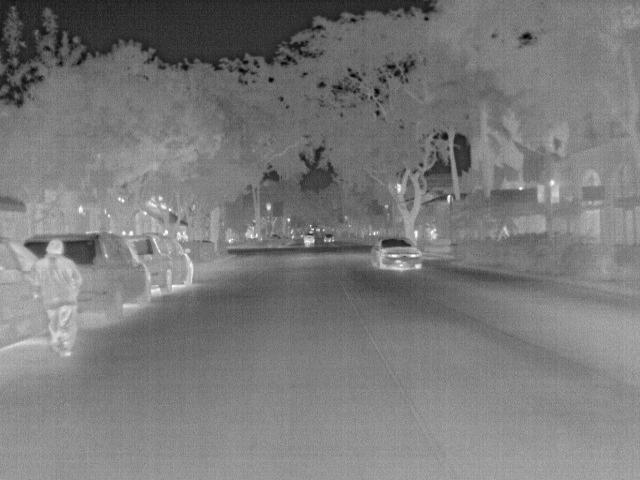car: (63, 228, 151, 320), (2, 238, 49, 351), (127, 233, 197, 297), (360, 236, 422, 273), (302, 234, 315, 248), (322, 234, 335, 244)
person: (33, 240, 84, 359)
